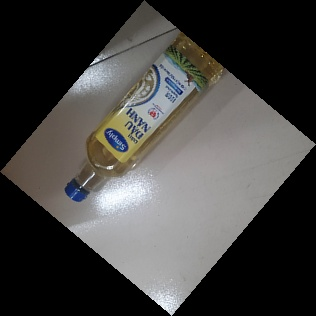Simply: (59, 19, 230, 207)
